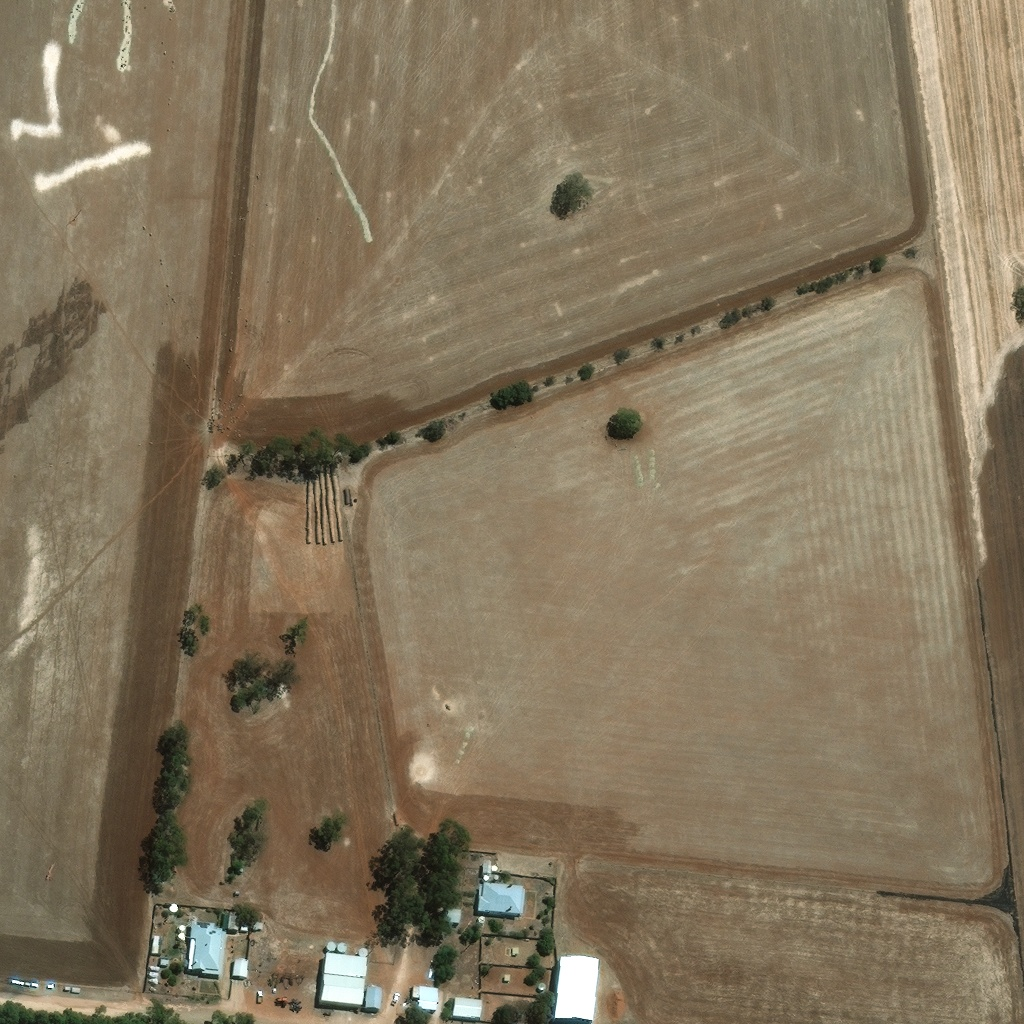0 no-damage: (551, 958, 602, 1023), (320, 955, 368, 1007), (187, 920, 228, 977), (477, 883, 526, 917), (411, 985, 440, 1012), (452, 997, 484, 1020), (222, 908, 251, 932), (363, 986, 383, 1010), (232, 958, 250, 978), (445, 907, 462, 923), (151, 934, 165, 953), (326, 942, 348, 952), (178, 923, 187, 943), (481, 862, 492, 875), (168, 902, 180, 913), (147, 974, 160, 983), (148, 967, 161, 976), (358, 948, 370, 957), (146, 982, 159, 989), (148, 963, 161, 969), (160, 957, 171, 963), (478, 916, 487, 923), (492, 865, 498, 870), (484, 876, 490, 880)
4 un-classified: (279, 947, 324, 974), (337, 844, 353, 859), (476, 716, 491, 730), (273, 832, 287, 846)
